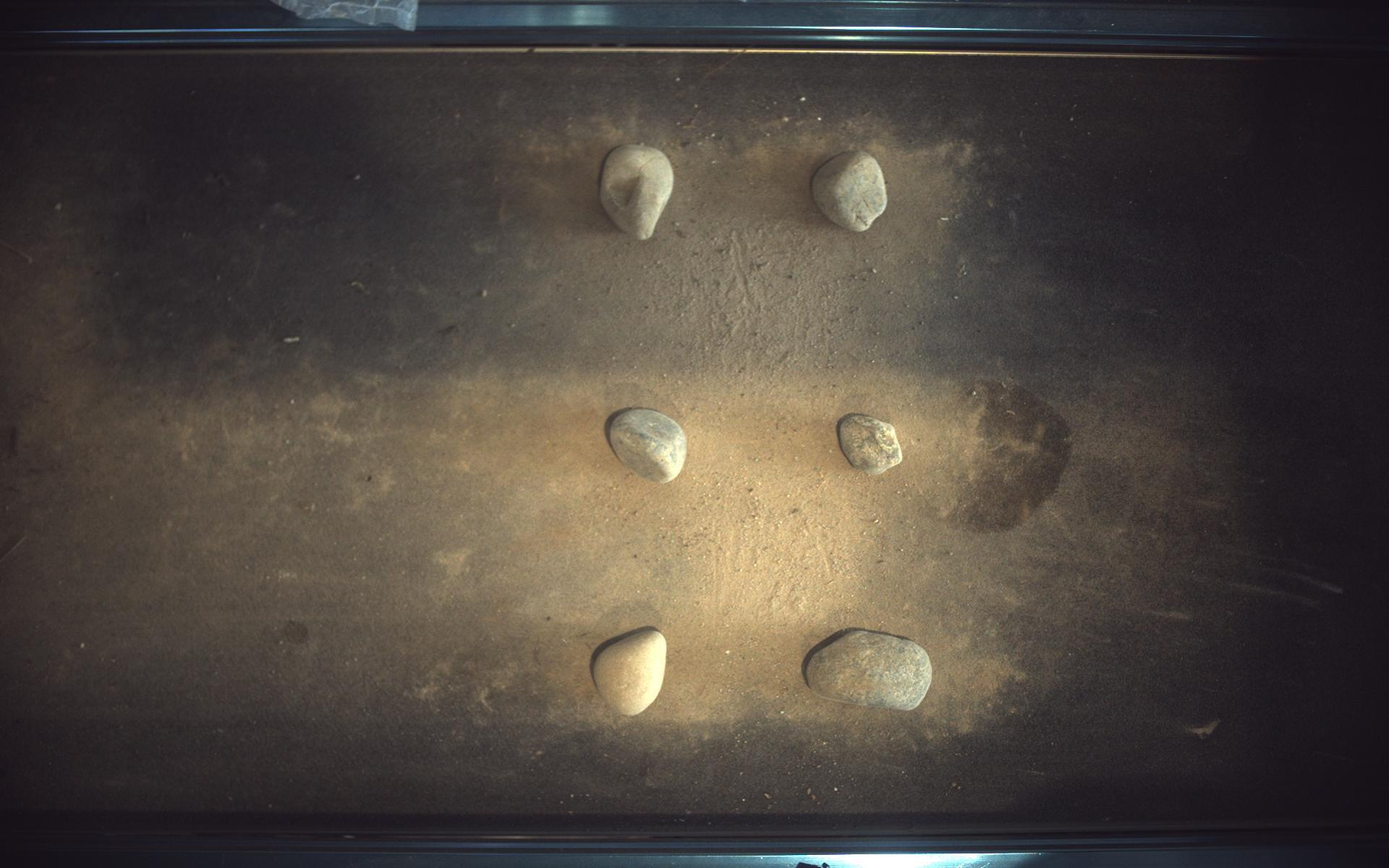stone: (807, 631, 934, 712), (600, 144, 674, 239), (593, 630, 668, 717), (813, 150, 888, 231), (609, 409, 688, 483), (839, 414, 904, 475)
